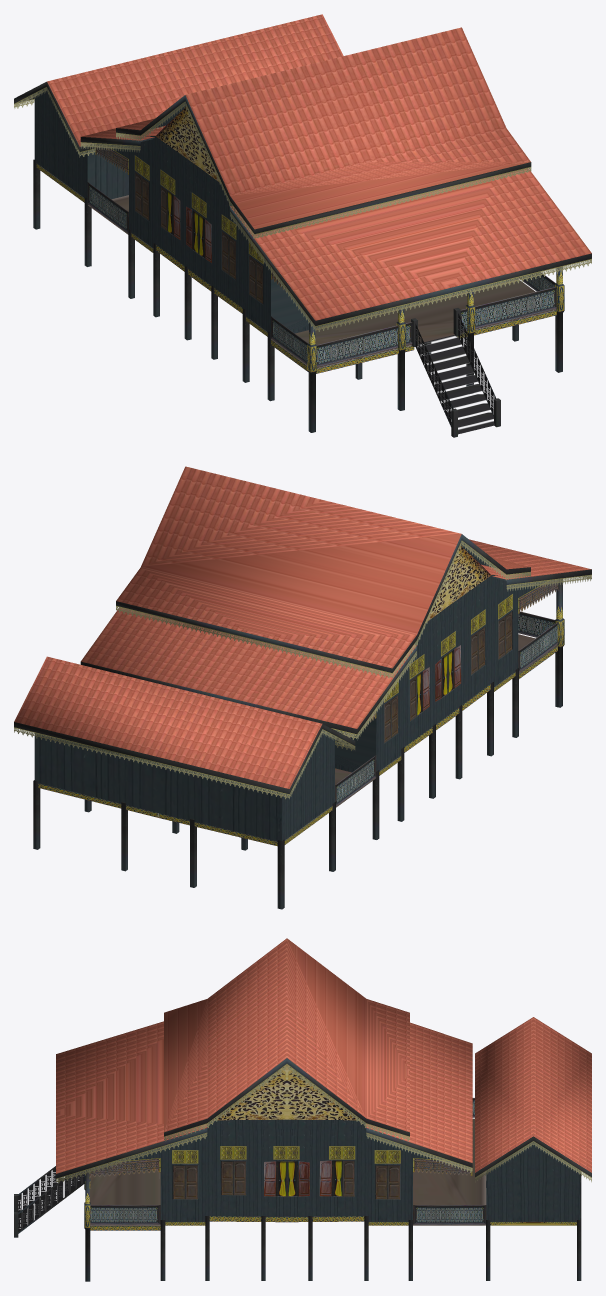
Rendered from kajang-lako.glb.
The picture shows the model from 3 angles, top to bottom: view 1: azimuth 30°, elevation 25°; view 2: azimuth 150°, elevation 25°; view 3: azimuth 270°, elevation 25°; orthographic projection. The views are drawn at different scales.
Parts seen in each view (by area): view 1: Plane.004_jambi_0; view 2: Plane.004_jambi_0; view 3: Plane.004_jambi_0.
Part boxes in pixels (bbox=[...]): Plane.004_jambi_0: bbox=[14, 14, 591, 437]; Plane.004_jambi_0: bbox=[14, 466, 591, 909]; Plane.004_jambi_0: bbox=[14, 938, 591, 1281].
Size of the model in its own units: 3.07 by 2.74 by 6.26.
Materials: 1 (1 with a texture image).
